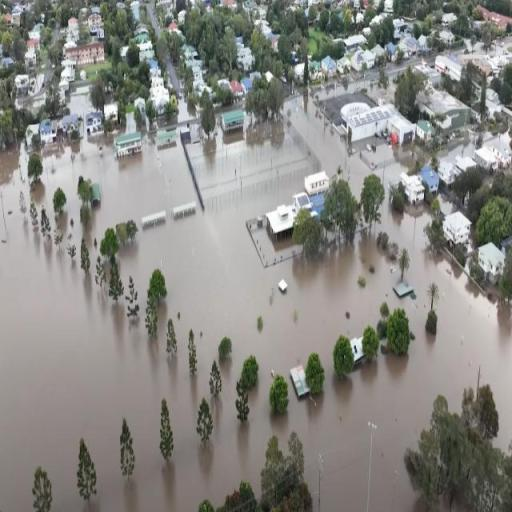flood: (0, 78, 512, 512), (438, 140, 478, 162), (482, 131, 512, 160)
house: (260, 190, 323, 249), (342, 101, 403, 148), (475, 238, 505, 288), (400, 166, 430, 210), (441, 207, 473, 247), (474, 135, 506, 175), (129, 27, 155, 67), (114, 128, 143, 162), (288, 357, 311, 399), (68, 42, 105, 68), (219, 107, 247, 139), (305, 166, 333, 196), (436, 54, 464, 84), (416, 115, 436, 150), (39, 115, 57, 149), (349, 334, 366, 364), (84, 112, 104, 134), (155, 129, 178, 148), (321, 54, 339, 78), (7, 6, 24, 26), (363, 48, 377, 70), (88, 12, 104, 30), (337, 56, 351, 74), (134, 96, 148, 110)
